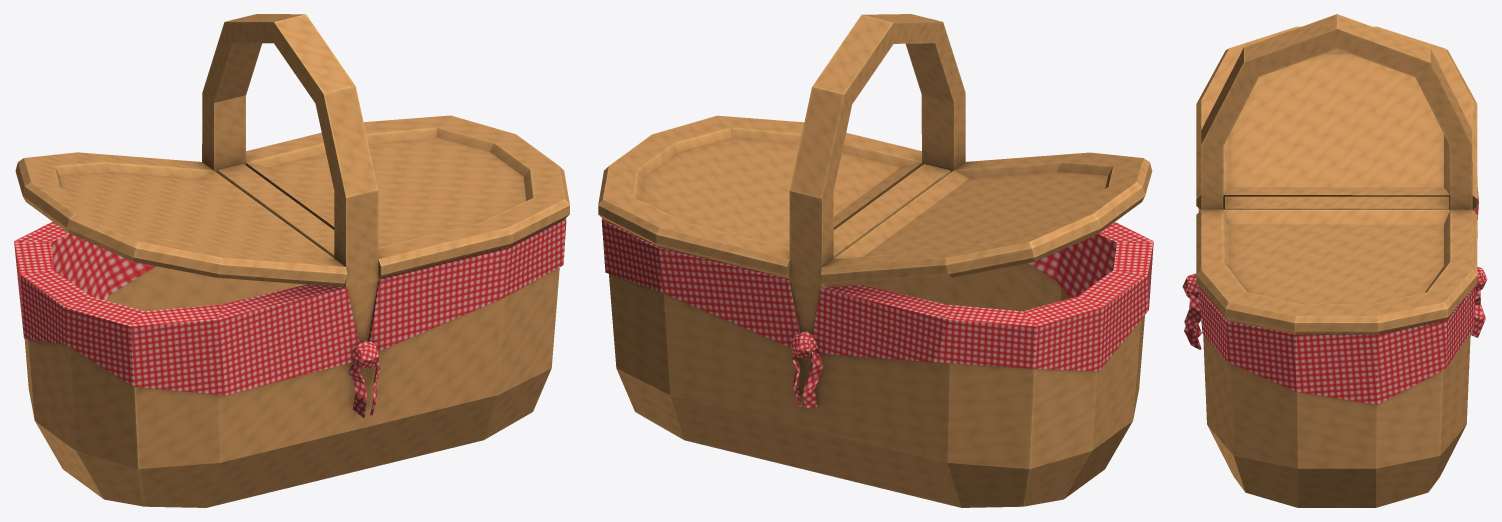
Rendered from PicnicBasket.obj.
3 views of the same model, side by side, from view 1: azimuth 30°, elevation 25°; view 2: azimuth 150°, elevation 25°; view 3: azimuth 270°, elevation 25° (orthographic). The views are drawn at different scales.
Parts seen in each view (by area): view 1: PicnicBasket_mesh; view 2: PicnicBasket_mesh; view 3: PicnicBasket_mesh.
Part boxes in pixels (bbox=[...]): PicnicBasket_mesh: bbox=[14, 14, 569, 507]; PicnicBasket_mesh: bbox=[598, 14, 1153, 507]; PicnicBasket_mesh: bbox=[1182, 14, 1487, 507].
Bounding box in the file's own units: 5.81 × 4.88 × 3.26.
Materials: 1 (1 with a texture image).
